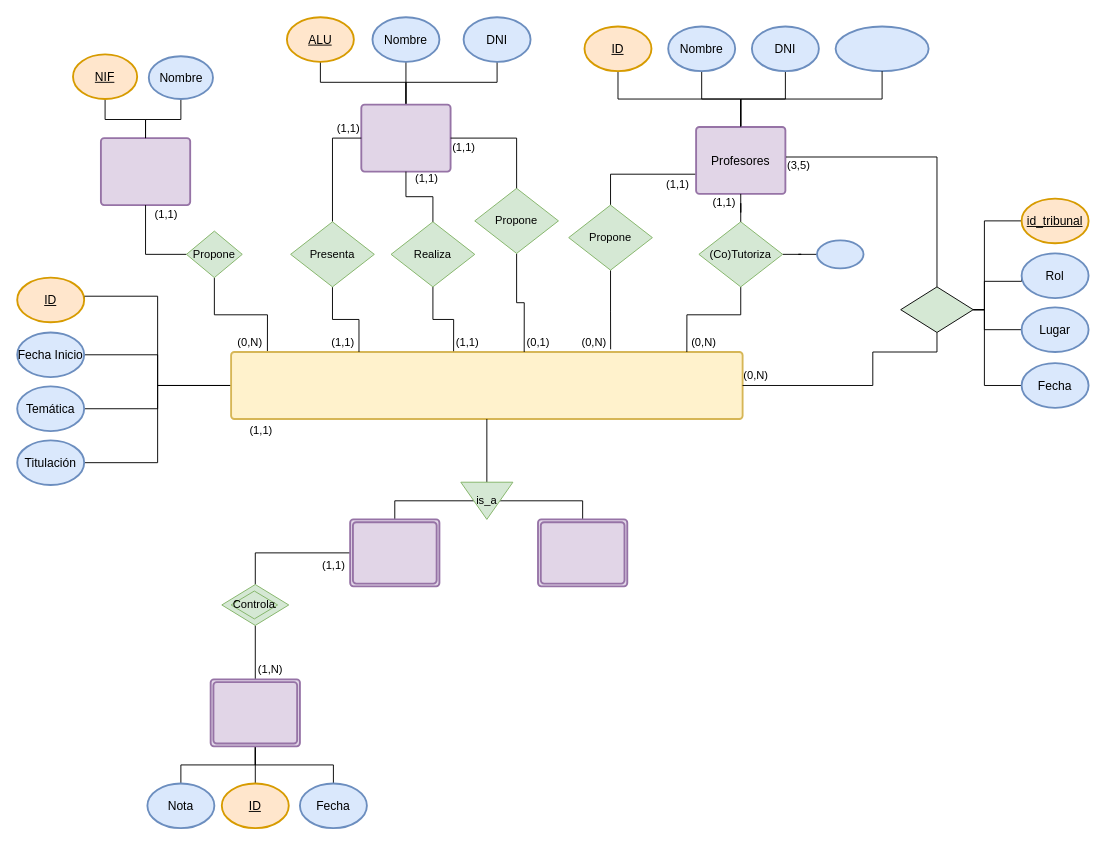
Some shapes in this 1105 by 844 pixel diagram are drawn without their labels. The shapes that lost their labels are listed below. From the top down, each one's centre as x and y in pixels, then its label:
(x=881, y=48): Área de Conocimiento
(x=405, y=137): Alumnos
(x=145, y=171): Empresa
(x=840, y=254): Curso
(x=936, y=309): Evalua
(x=486, y=385): Proyecto final
(x=394, y=552): TFG
(x=582, y=552): TFM
(x=254, y=712): Seguimiento
